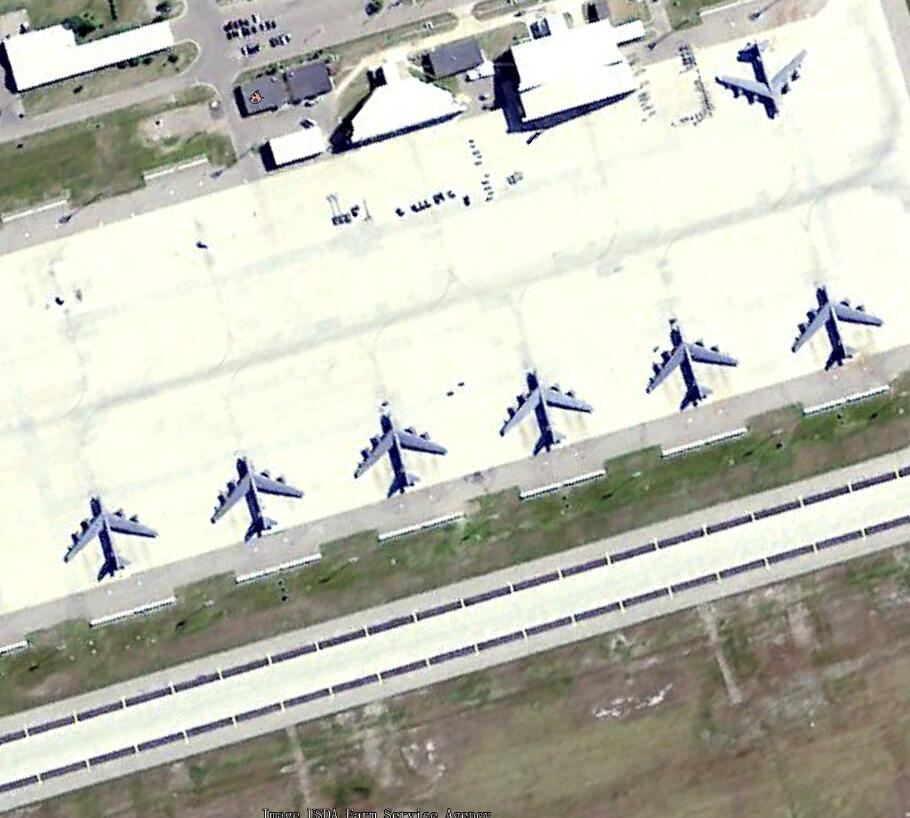A8: (786, 281, 884, 379), (638, 316, 738, 411), (348, 409, 449, 501), (63, 494, 163, 586), (207, 452, 305, 543), (713, 36, 812, 123), (497, 371, 594, 456)
